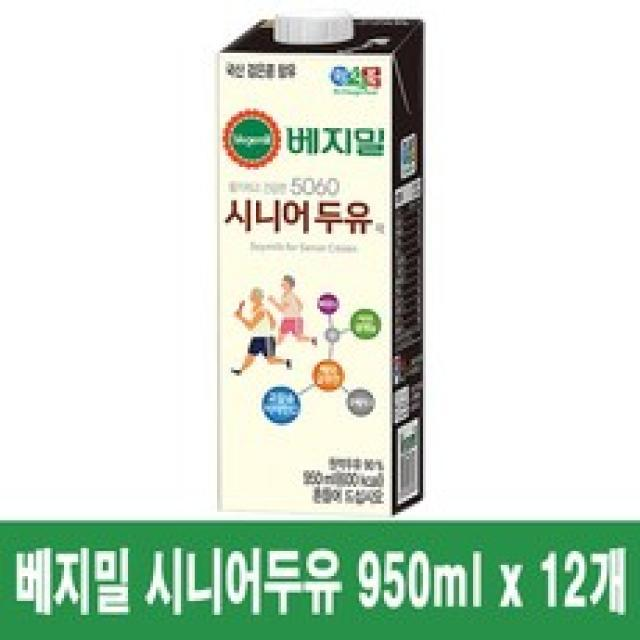Tetra: (211, 11, 443, 515)
